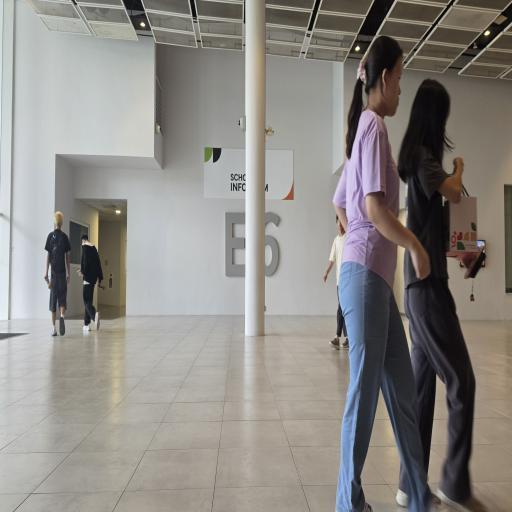person_left: (326, 207, 350, 350)
person_right: (334, 30, 424, 512), (403, 78, 481, 512)
